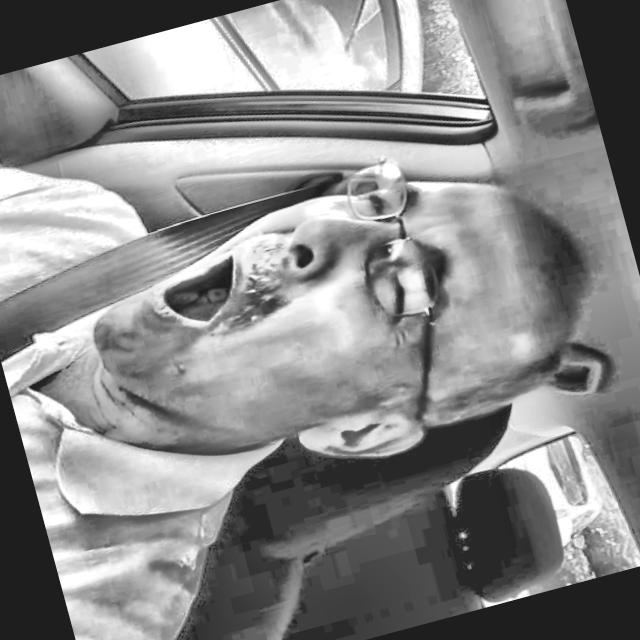closed_eyes: (354, 259, 428, 342), (336, 172, 408, 227)
open_mouth: (136, 239, 269, 345)
